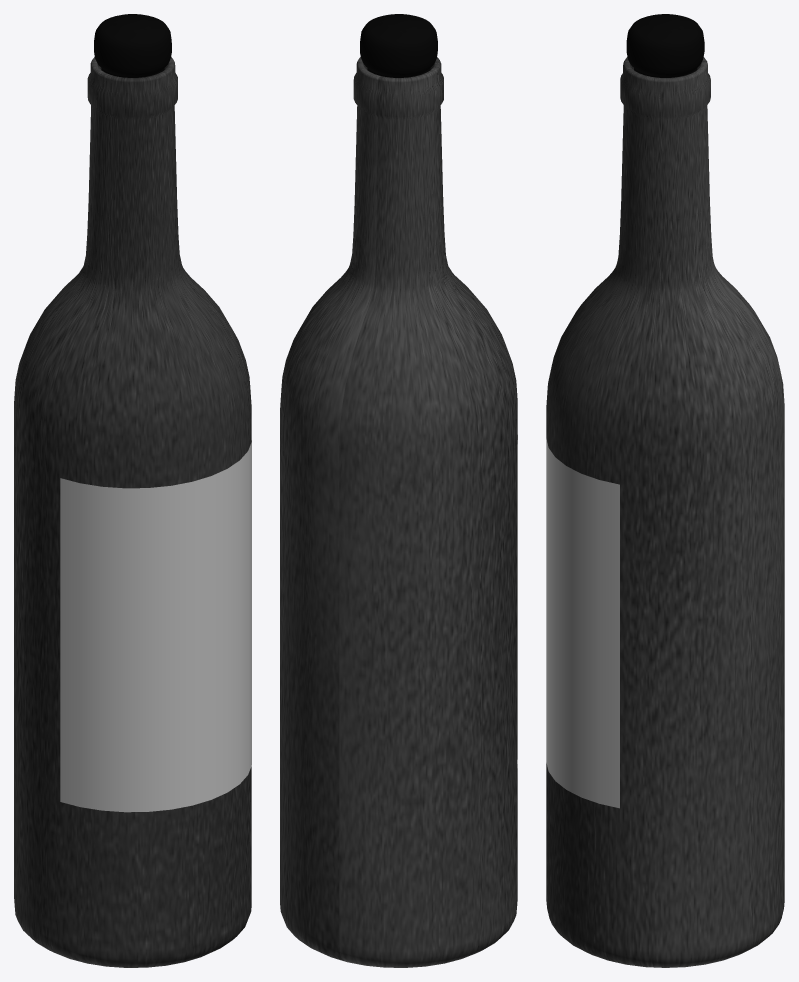
Rendered from wine.obj.
3 renders of one model, left to right at view 1: azimuth 30°, elevation 25°; view 2: azimuth 150°, elevation 25°; view 3: azimuth 270°, elevation 25°, orthographic.
Visible parts, largest first — view 1: polySurface3; view 2: polySurface3; view 3: polySurface3.
Part boxes in pixels (box(x1,y1,x2,y2)): polySurface3: box(14, 14, 251, 967); polySurface3: box(280, 14, 517, 967); polySurface3: box(546, 14, 784, 967).
Size of the model in its own units: 0.529 by 2.21 by 0.5292.
